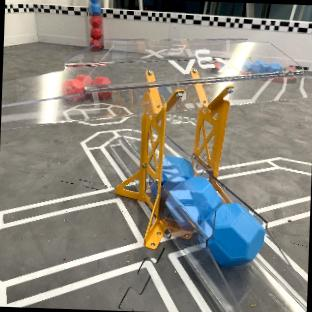Goal: (64, 39, 306, 104)
V5_BLUE: (199, 197, 264, 266), (165, 177, 221, 224), (161, 155, 192, 183)
V5_RED: (62, 73, 111, 101)
